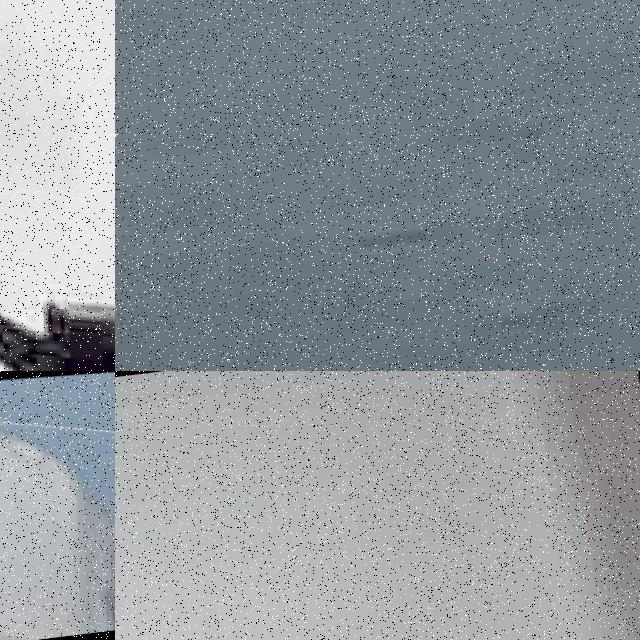0: (0, 0, 115, 371)
drone: (0, 371, 115, 640)
